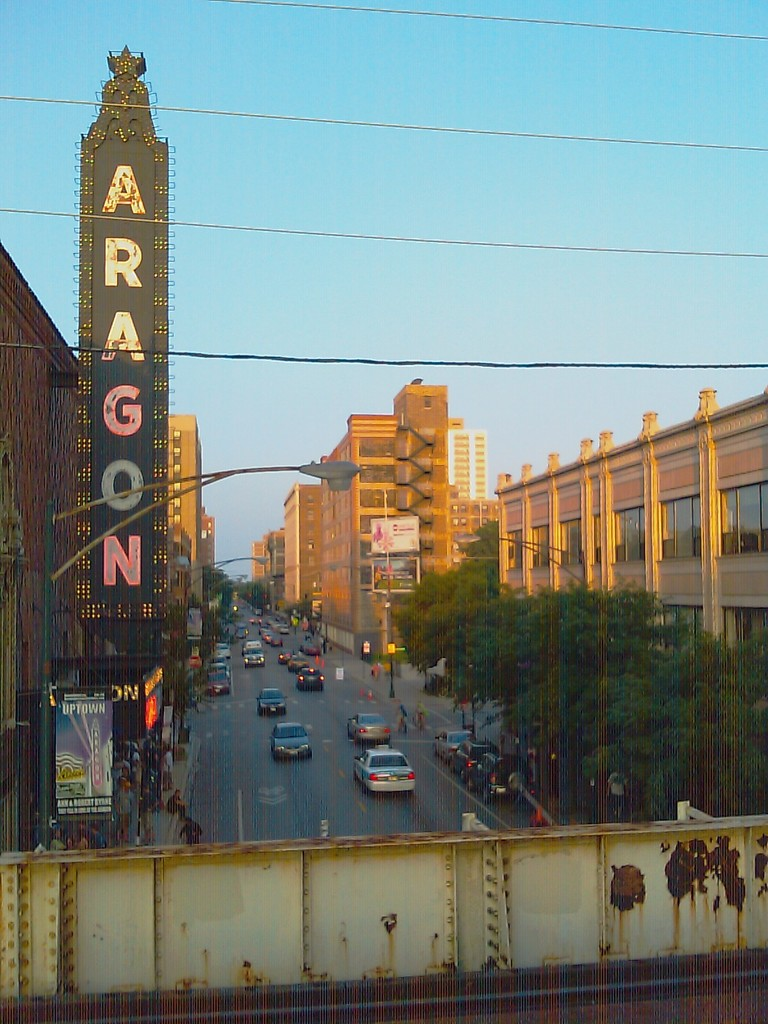Tree: (447, 583, 766, 824), (393, 556, 483, 676), (451, 518, 497, 577)
